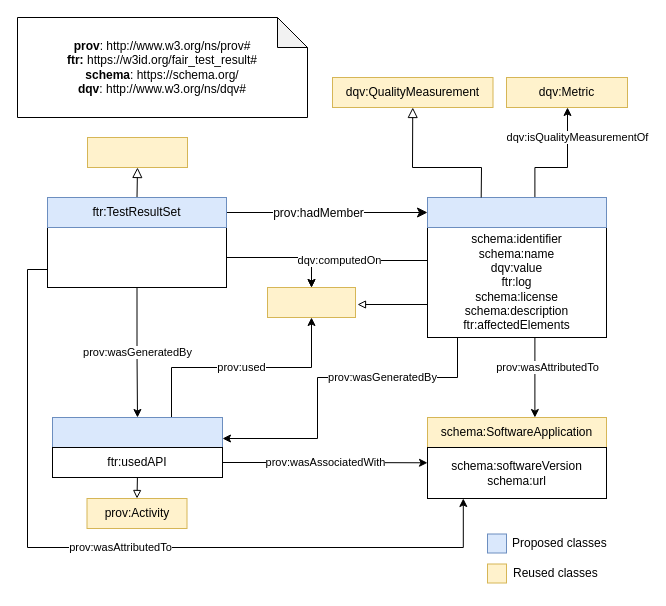
The diagram is 666 pixels wide and 606 high, and some of its shapes have lost their labels. The centre of each missing label's shape, as x and y in pixels:
ftr:TestExecutionActivity: point 137,432
ftr:TestResult: point 516,212
prov:Collection: point 137,152
prov:Entity: point 311,302
schema:identifier schema:name ftr:rubric schema:license: point 136,257
